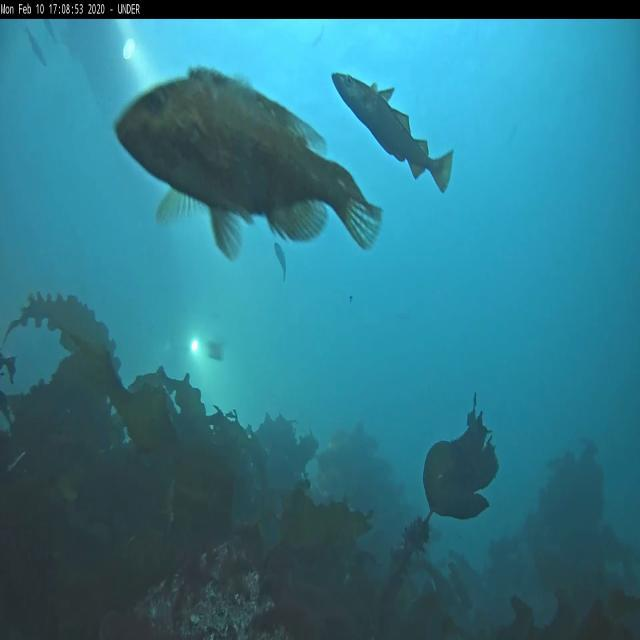fish: (112, 64, 382, 259), (331, 70, 454, 194), (23, 28, 50, 66), (272, 242, 286, 281), (42, 20, 56, 37)
